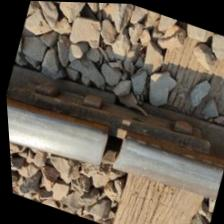person: (67, 107, 152, 187)
